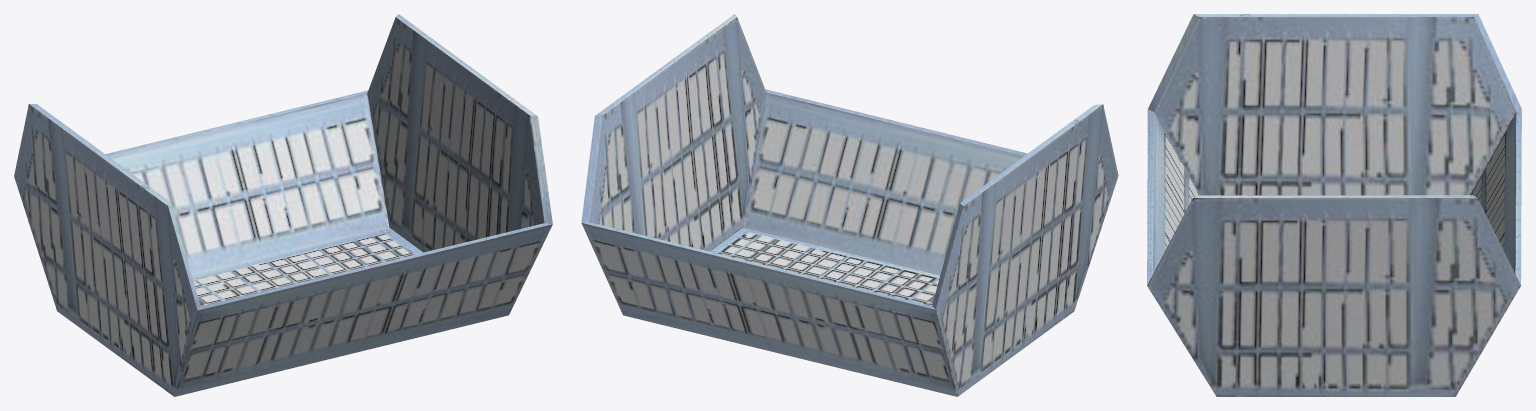
The model's file is paper_rack-3.FBX.
3 renders of one model, left to right at view 1: azimuth 30°, elevation 25°; view 2: azimuth 150°, elevation 25°; view 3: azimuth 270°, elevation 25°, orthographic. The views are drawn at different scales.
Visible parts, largest first — view 1: Line01; view 2: Line01; view 3: Line01.
Boxes of the visible parts, left/top/right/bottom form: Line01: left=14, top=14, right=552, bottom=396; Line01: left=581, top=14, right=1118, bottom=396; Line01: left=1147, top=14, right=1521, bottom=396.
Size of the model in its own units: 17.33 by 9.11 by 14.9.
